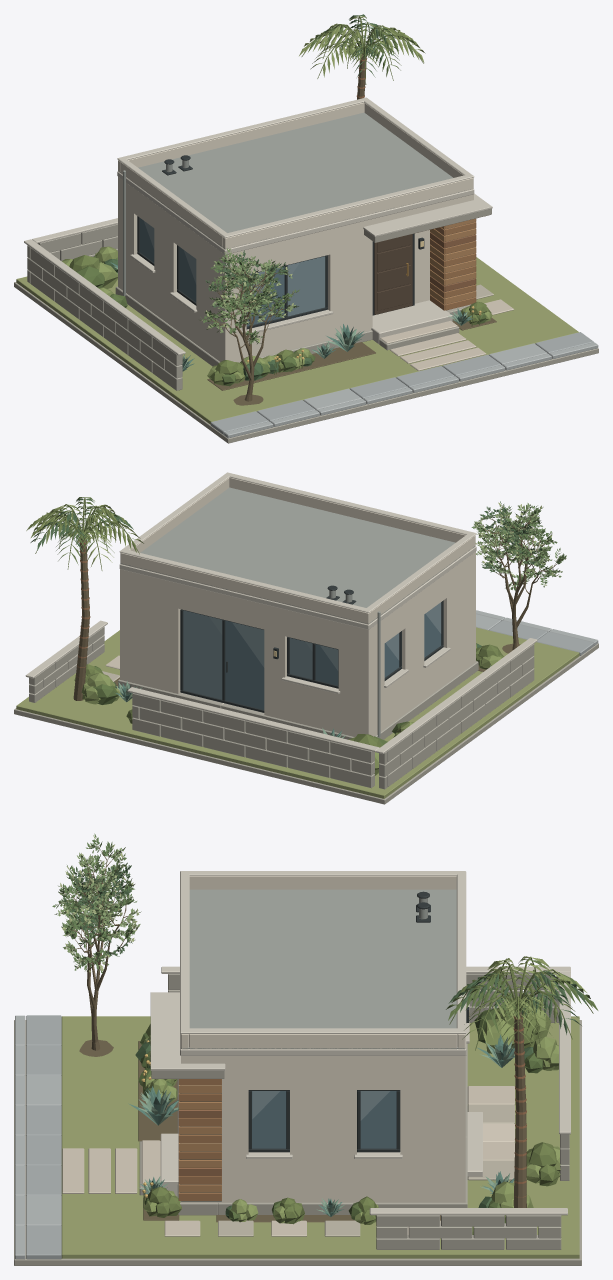
Rendered from residencial_1_a.fbx.
The picture shows the model from 3 angles, top to bottom: view 1: azimuth 30°, elevation 25°; view 2: azimuth 150°, elevation 25°; view 3: azimuth 270°, elevation 25°; orthographic projection. The views are drawn at different scales.
Parts seen in each view (by area): view 1: 05 · Cubierta y pretiles, 04 · Envolvente, 01 · Terreno y césped, 02 · Banqueta y senderos, 08 · Pórtico y carpintería, 03 · Bardas y jardineras, 11 · Árbol de sombra, 10 · Plantación baja, 07 · Cristales, 12 · Palmera, 06 · Canceles y repisas; view 2: 05 · Cubierta y pretiles, 04 · Envolvente, 03 · Bardas y jardineras, 01 · Terreno y césped, 07 · Cristales, 11 · Árbol de sombra, 12 · Palmera, 02 · Banqueta y senderos, 10 · Plantación baja, 06 · Canceles y repisas, 09 · Lámparas y herrajes; view 3: 05 · Cubierta y pretiles, 01 · Terreno y césped, 04 · Envolvente, 02 · Banqueta y senderos, 03 · Bardas y jardineras, 10 · Plantación baja, 08 · Pórtico y carpintería, 12 · Palmera, 11 · Árbol de sombra, 07 · Cristales, 06 · Canceles y repisas.
Part boxes in pixels (box(x1,y1,x2,y2)): 05 · Cubierta y pretiles: box(117, 97, 474, 254); 04 · Envolvente: box(118, 177, 473, 362); 01 · Terreno y césped: box(14, 257, 598, 443); 02 · Banqueta y senderos: box(115, 284, 598, 438); 08 · Pórtico y carpintería: box(363, 193, 492, 315); 03 · Bardas y jardineras: box(24, 218, 185, 390); 11 · Árbol de sombra: box(199, 248, 299, 401); 10 · Plantación baja: box(62, 246, 492, 405); 07 · Cristales: box(140, 218, 325, 326); 12 · Palmera: box(299, 14, 425, 99); 06 · Canceles y repisas: box(130, 216, 333, 334); 05 · Cubierta y pretiles: box(119, 472, 476, 629); 04 · Envolvente: box(120, 551, 475, 736); 03 · Bardas y jardineras: box(25, 620, 537, 789); 01 · Terreno y césped: box(14, 627, 598, 804); 07 · Cristales: box(183, 602, 441, 709); 11 · Árbol de sombra: box(471, 501, 566, 649); 12 · Palmera: box(26, 497, 143, 700); 02 · Banqueta y senderos: box(102, 610, 598, 739); 10 · Plantación baja: box(74, 643, 520, 775); 06 · Canceles y repisas: box(180, 600, 450, 712); 09 · Lámparas y herrajes: box(226, 611, 380, 737); 05 · Cubierta y pretiles: box(180, 871, 466, 1055); 01 · Terreno y césped: box(14, 1016, 581, 1265); 04 · Envolvente: box(181, 1056, 465, 1202); 02 · Banqueta y senderos: box(15, 1015, 514, 1259); 03 · Bardas y jardineras: box(161, 966, 570, 1249); 10 · Plantación baja: box(79, 1005, 560, 1234); 08 · Pórtico y carpintería: box(150, 992, 225, 1201); 12 · Palmera: box(446, 956, 598, 1207); 11 · Árbol de sombra: box(52, 833, 141, 1050); 07 · Cristales: box(252, 1091, 396, 1148); 06 · Canceles y repisas: box(246, 1004, 469, 1158).
Bounding box in the file's own units: 10.17 × 5.21 × 10.3.
